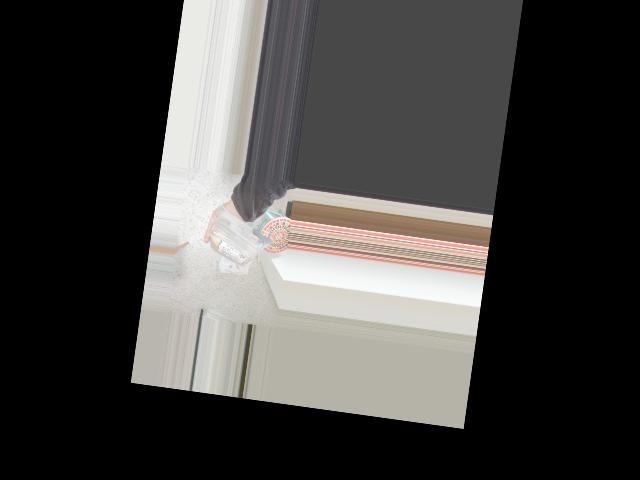cheese: (216, 215, 252, 282)
